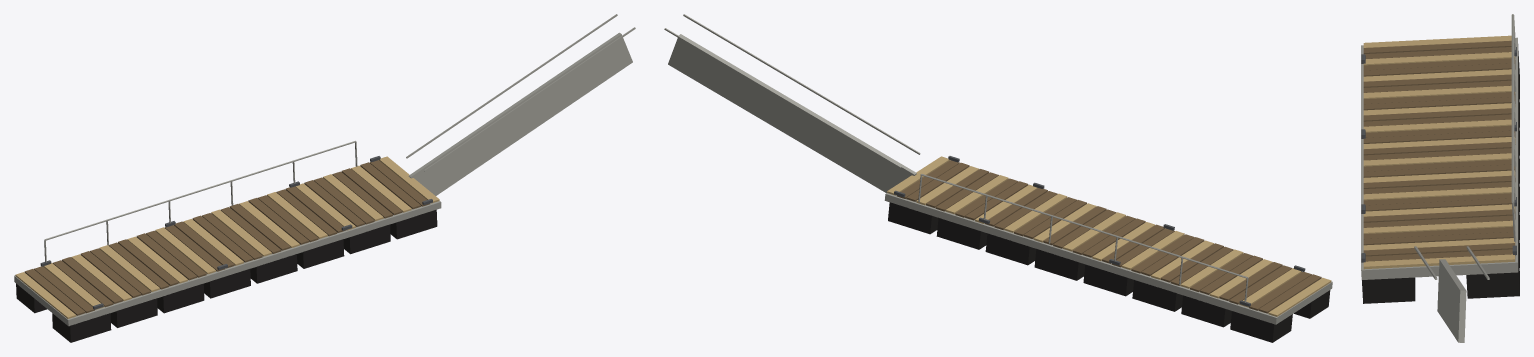
Rendered from shore_dock.glb.
3 renders of one model, left to right at view 1: azimuth 30°, elevation 25°; view 2: azimuth 150°, elevation 25°; view 3: azimuth 270°, elevation 25°, orthographic. The views are drawn at different scales.
Parts seen in each view (by area): view 1: shore_dock; view 2: shore_dock; view 3: shore_dock.
Boxes of the visible parts, x1,y1,x2,y2 form: shore_dock: (14,14,635,342); shore_dock: (664,14,1332,342); shore_dock: (1361,14,1519,342).
Size of the model in its own units: 19.22 by 4.71 by 3.03.
